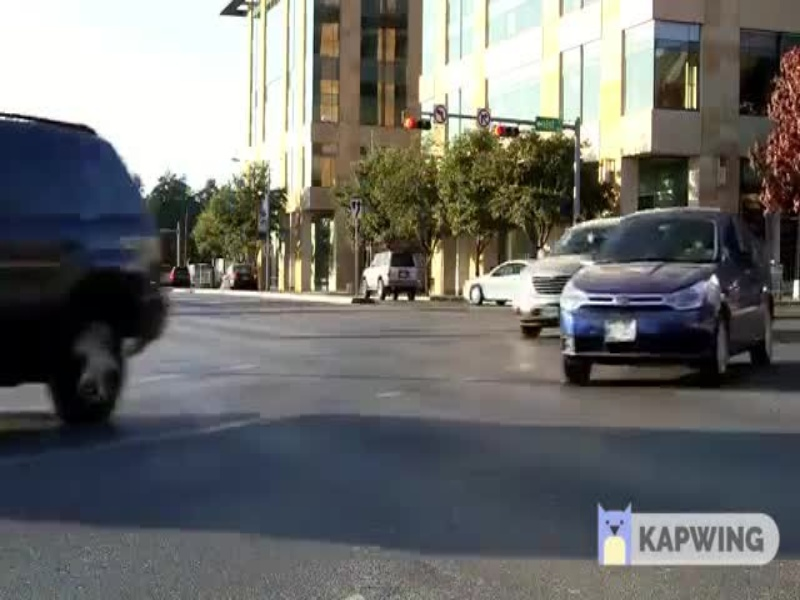car: (555, 202, 779, 400), (334, 246, 427, 304)
